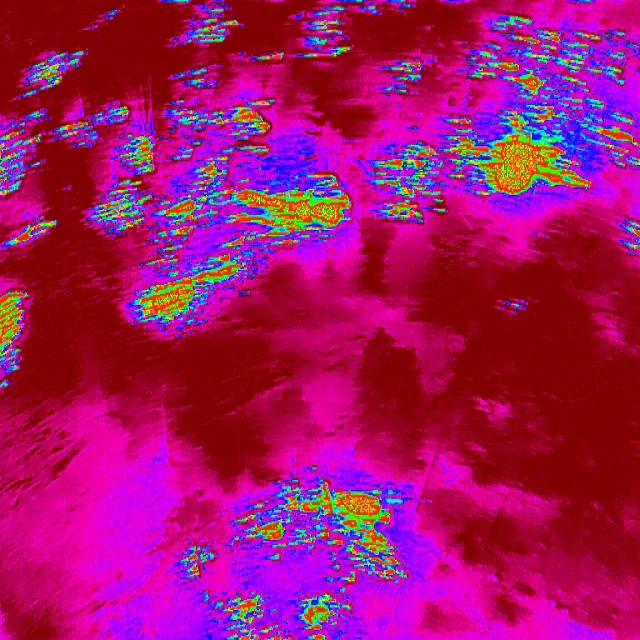fire: (367, 0, 640, 221), (92, 59, 352, 236), (170, 476, 412, 640), (127, 236, 286, 332), (0, 44, 88, 200), (286, 0, 352, 59), (0, 286, 32, 400), (168, 1, 240, 49), (7, 212, 58, 252)
